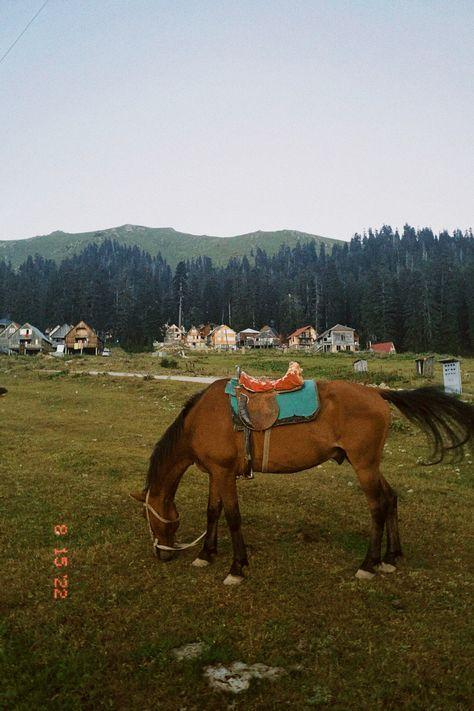horse: (129, 375, 473, 586)
